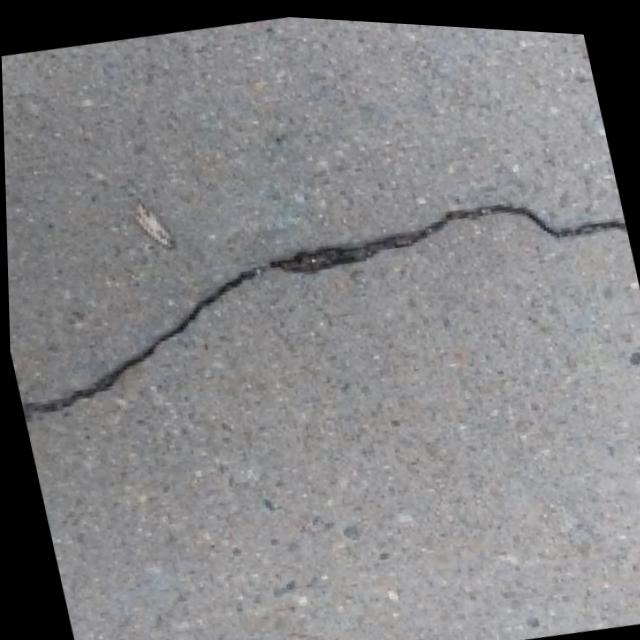Crack: (3, 115, 640, 503)
